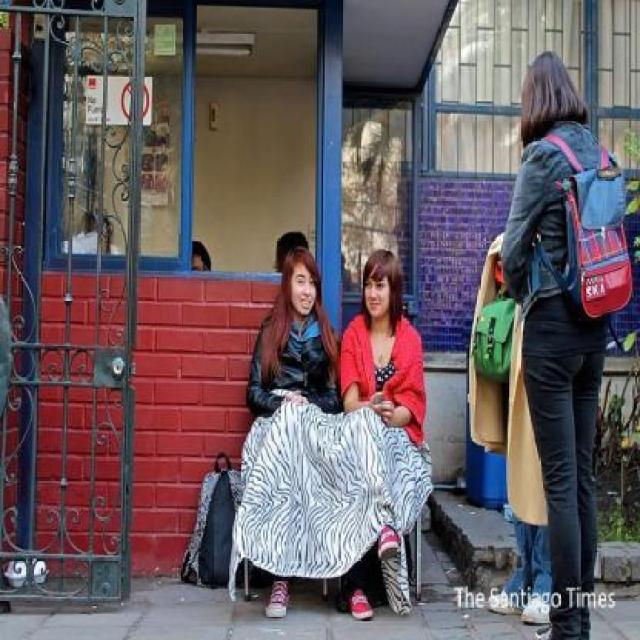backpack: (552, 160, 637, 325), (471, 289, 520, 385)
